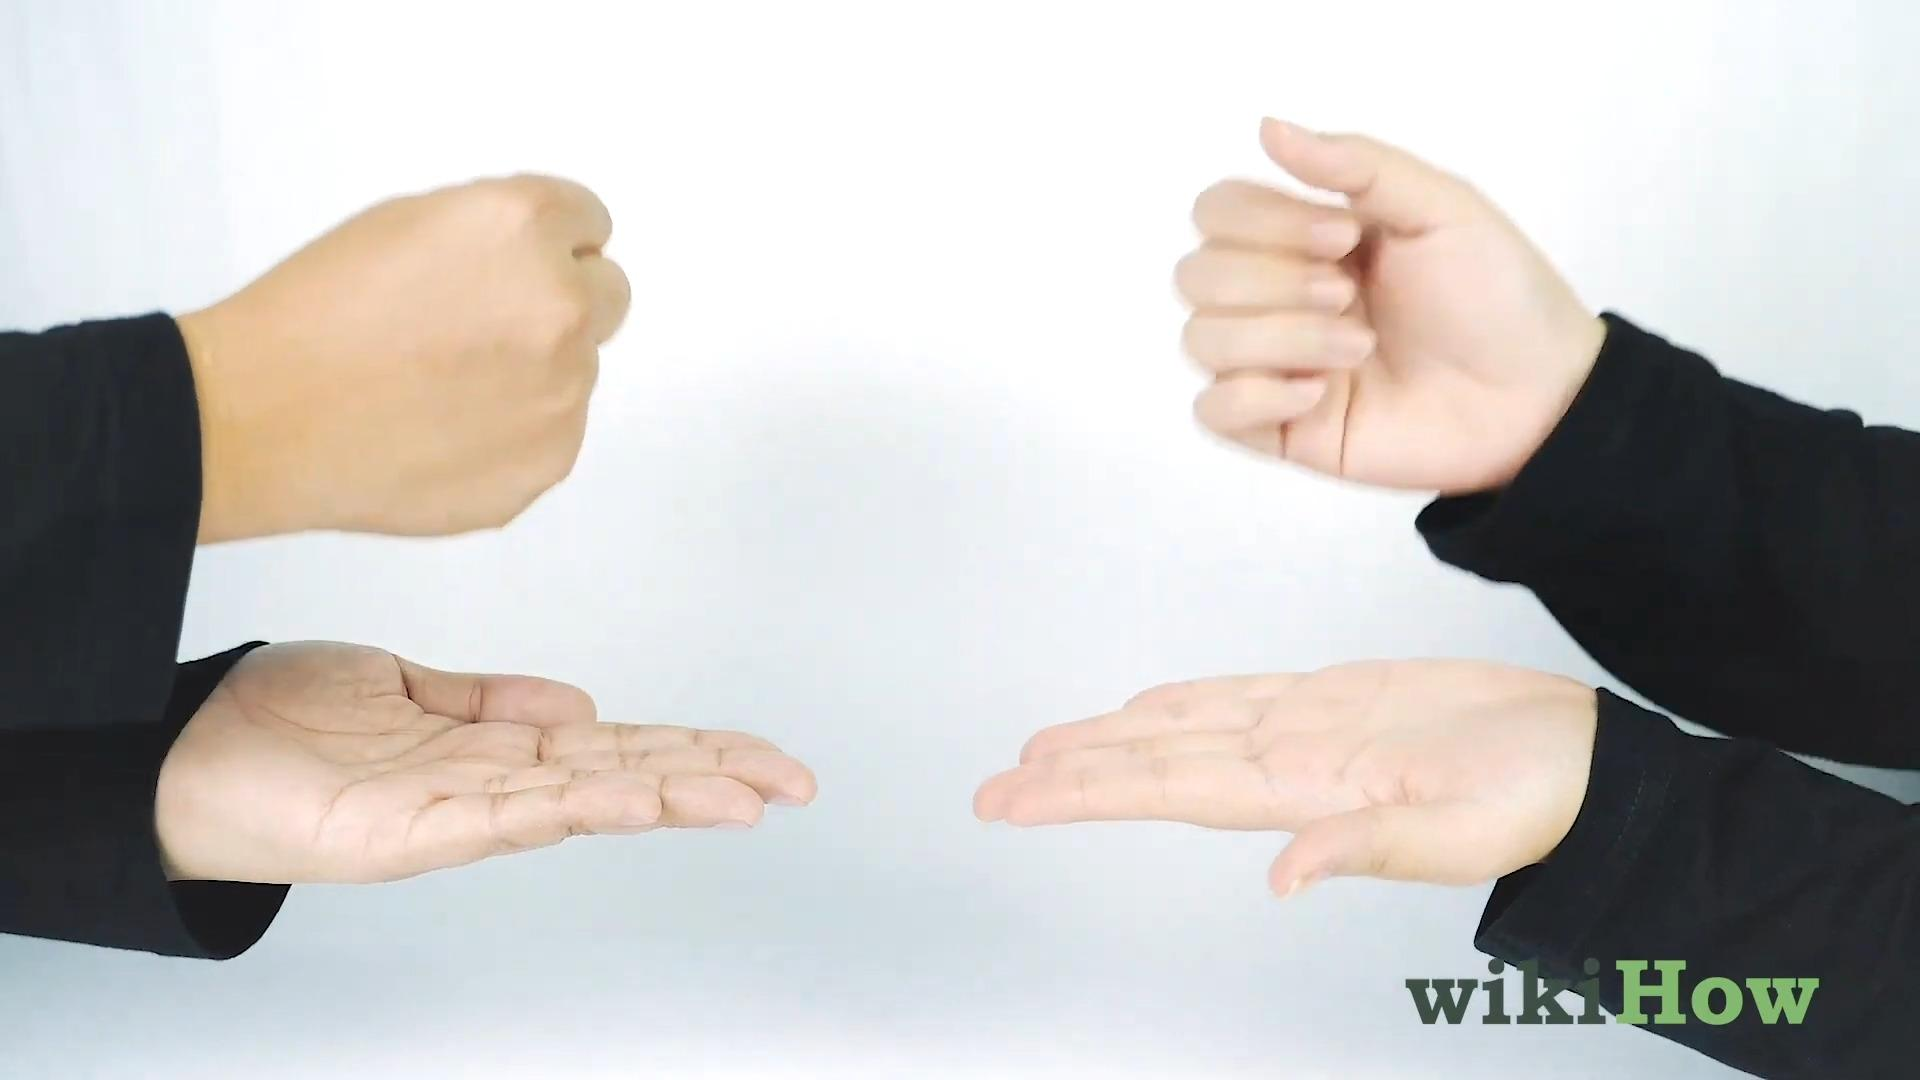Rock: (1170, 109, 1604, 489), (225, 173, 630, 537)
